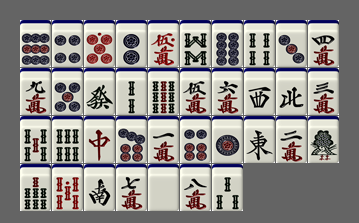0m: (148, 20, 179, 67)
0p: (84, 20, 115, 67)
0s: (52, 164, 83, 211)
1m: (148, 116, 179, 163)
1p: (212, 116, 243, 163)
1s: (308, 116, 339, 163)
1z: (244, 116, 275, 163)
2m: (276, 116, 307, 163)
2p: (116, 20, 147, 67)
2s: (116, 68, 147, 115)
2z: (84, 164, 115, 211)
3m: (308, 68, 339, 115)
3p: (276, 20, 307, 67)
3s: (212, 164, 243, 211)
3z: (244, 68, 275, 115)
4m: (308, 20, 339, 67)
4p: (52, 20, 83, 67)
4s: (244, 20, 275, 67)
4z: (276, 68, 307, 115)
5m: (180, 68, 211, 115)
5p: (52, 68, 83, 115)
5s: (20, 116, 51, 163)
5z: (148, 164, 179, 211)
6m: (212, 68, 243, 115)
6p: (180, 116, 211, 163)
6s: (52, 116, 83, 163)
6z: (84, 68, 115, 115)
7m: (116, 164, 147, 211)
7p: (116, 116, 147, 163)
7s: (20, 164, 51, 211)
7z: (84, 116, 115, 163)
8m: (180, 164, 211, 211)
8p: (212, 20, 243, 67)
8s: (180, 20, 211, 67)
9m: (20, 68, 51, 115)
9p: (20, 20, 51, 67)
9s: (148, 68, 179, 115)
